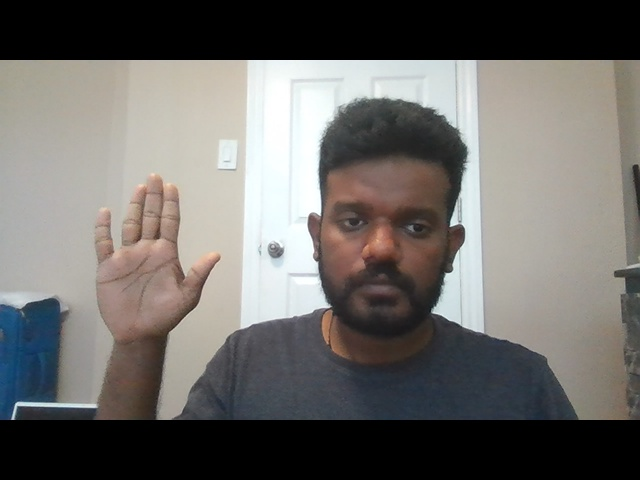hello: (87, 170, 226, 350)
